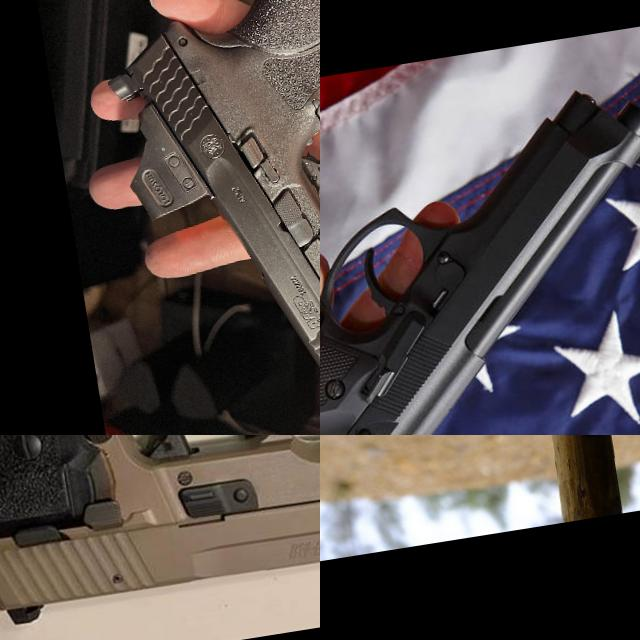handgun: (320, 71, 640, 435), (84, 0, 320, 435), (0, 435, 320, 640), (320, 435, 383, 475)
